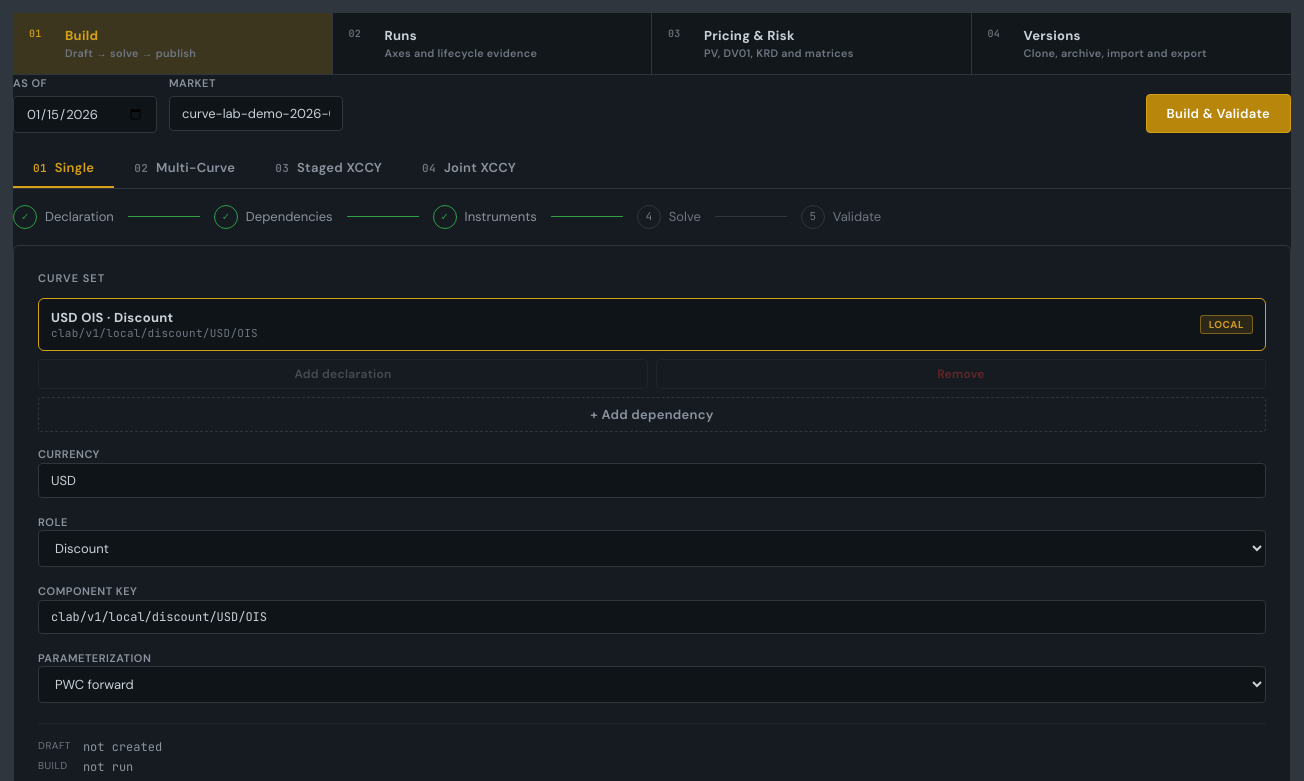
Test case: Curve Lab V2 workspace › materializes a legal visual topology when the build mode changes
The width and height of the screenshot is (1304, 781).
Click the tab "03 Staged XCCY": (329, 168) x1=255 y1=148 x2=402 y2=188
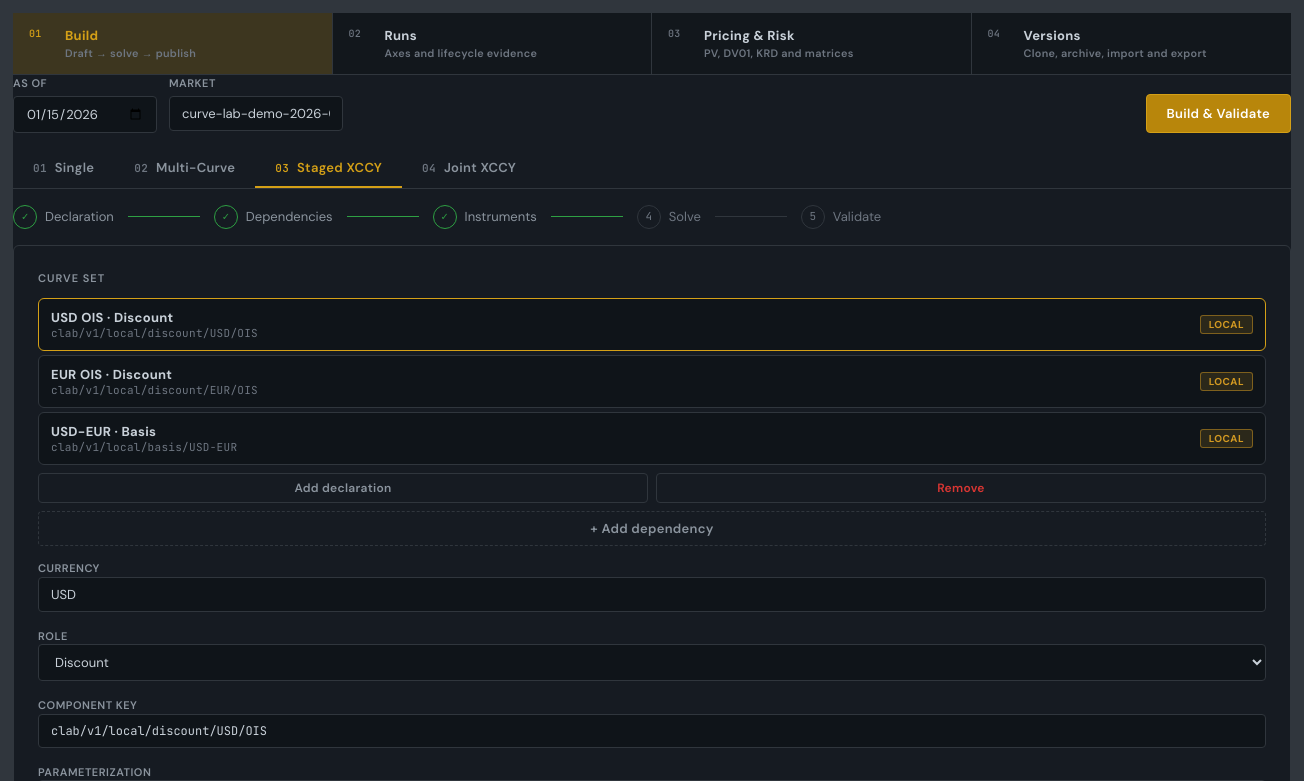
Check: the button "USD OIS · Discount clab/v1/local/discount/USD/OIS local" is shown, box x1=38 y1=298 x2=1266 y2=351
Check: the button "EUR OIS · Discount clab/v1/local/discount/EUR/OIS local" is shown, box x1=38 y1=355 x2=1266 y2=408
Check: the button "USD-EUR · Basis clab/v1/local/basis/USD-EUR local" is shown
Click the button "USD-EUR · Basis clab/v1/local/basis/USD-EUR local": (104, 432) x1=38 y1=412 x2=1266 y2=465
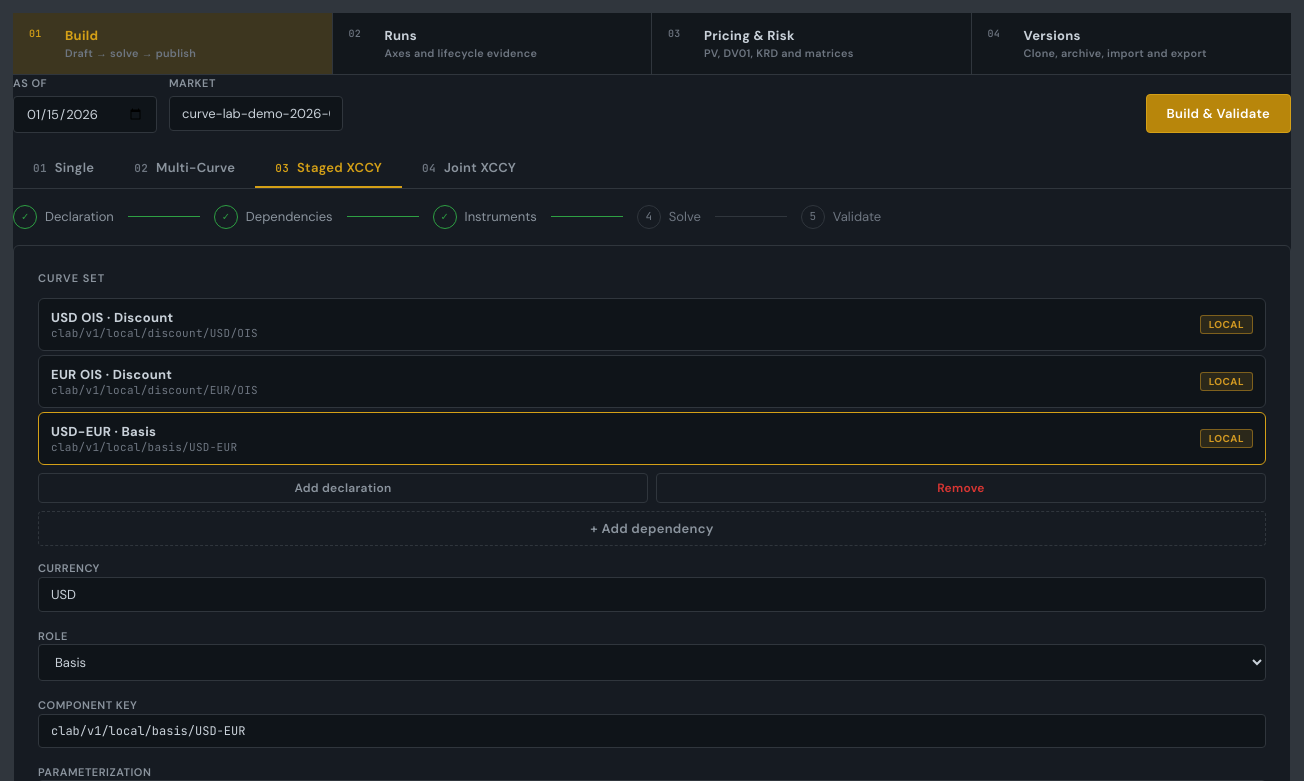
Check: the field named "Declaration currency 3" holds "USD", box x1=38 y1=576 x2=1266 y2=612
Check: the dropdown named "Declaration role 3" shows "Basis", box x1=38 y1=644 x2=1266 y2=681
Click the button "EUR OIS · Discount clab/v1/local/discount/EUR/OIS local": (112, 374) x1=38 y1=355 x2=1266 y2=408
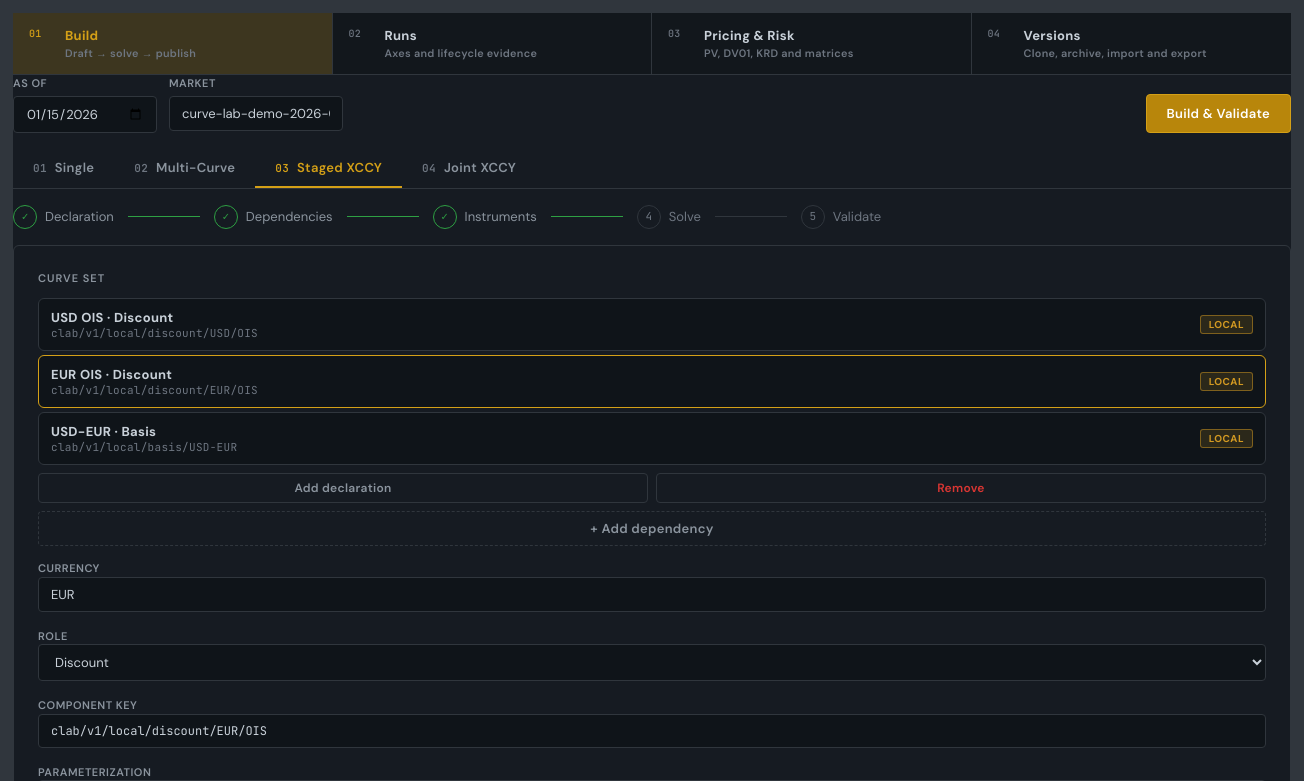
Check: the field named "Declaration currency 2" holds "EUR", box x1=38 y1=576 x2=1266 y2=612
Check: the dropdown named "Declaration role 2" shows "Discount", box x1=38 y1=644 x2=1266 y2=681
